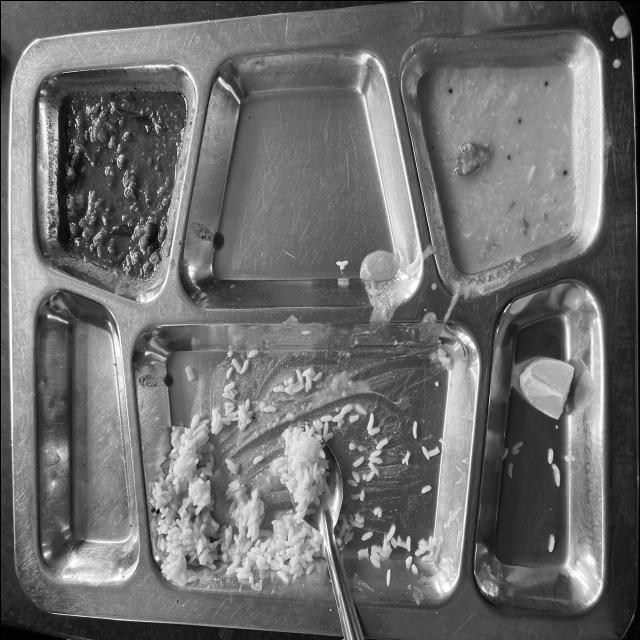20-Food-Left: (23, 38, 615, 638)
